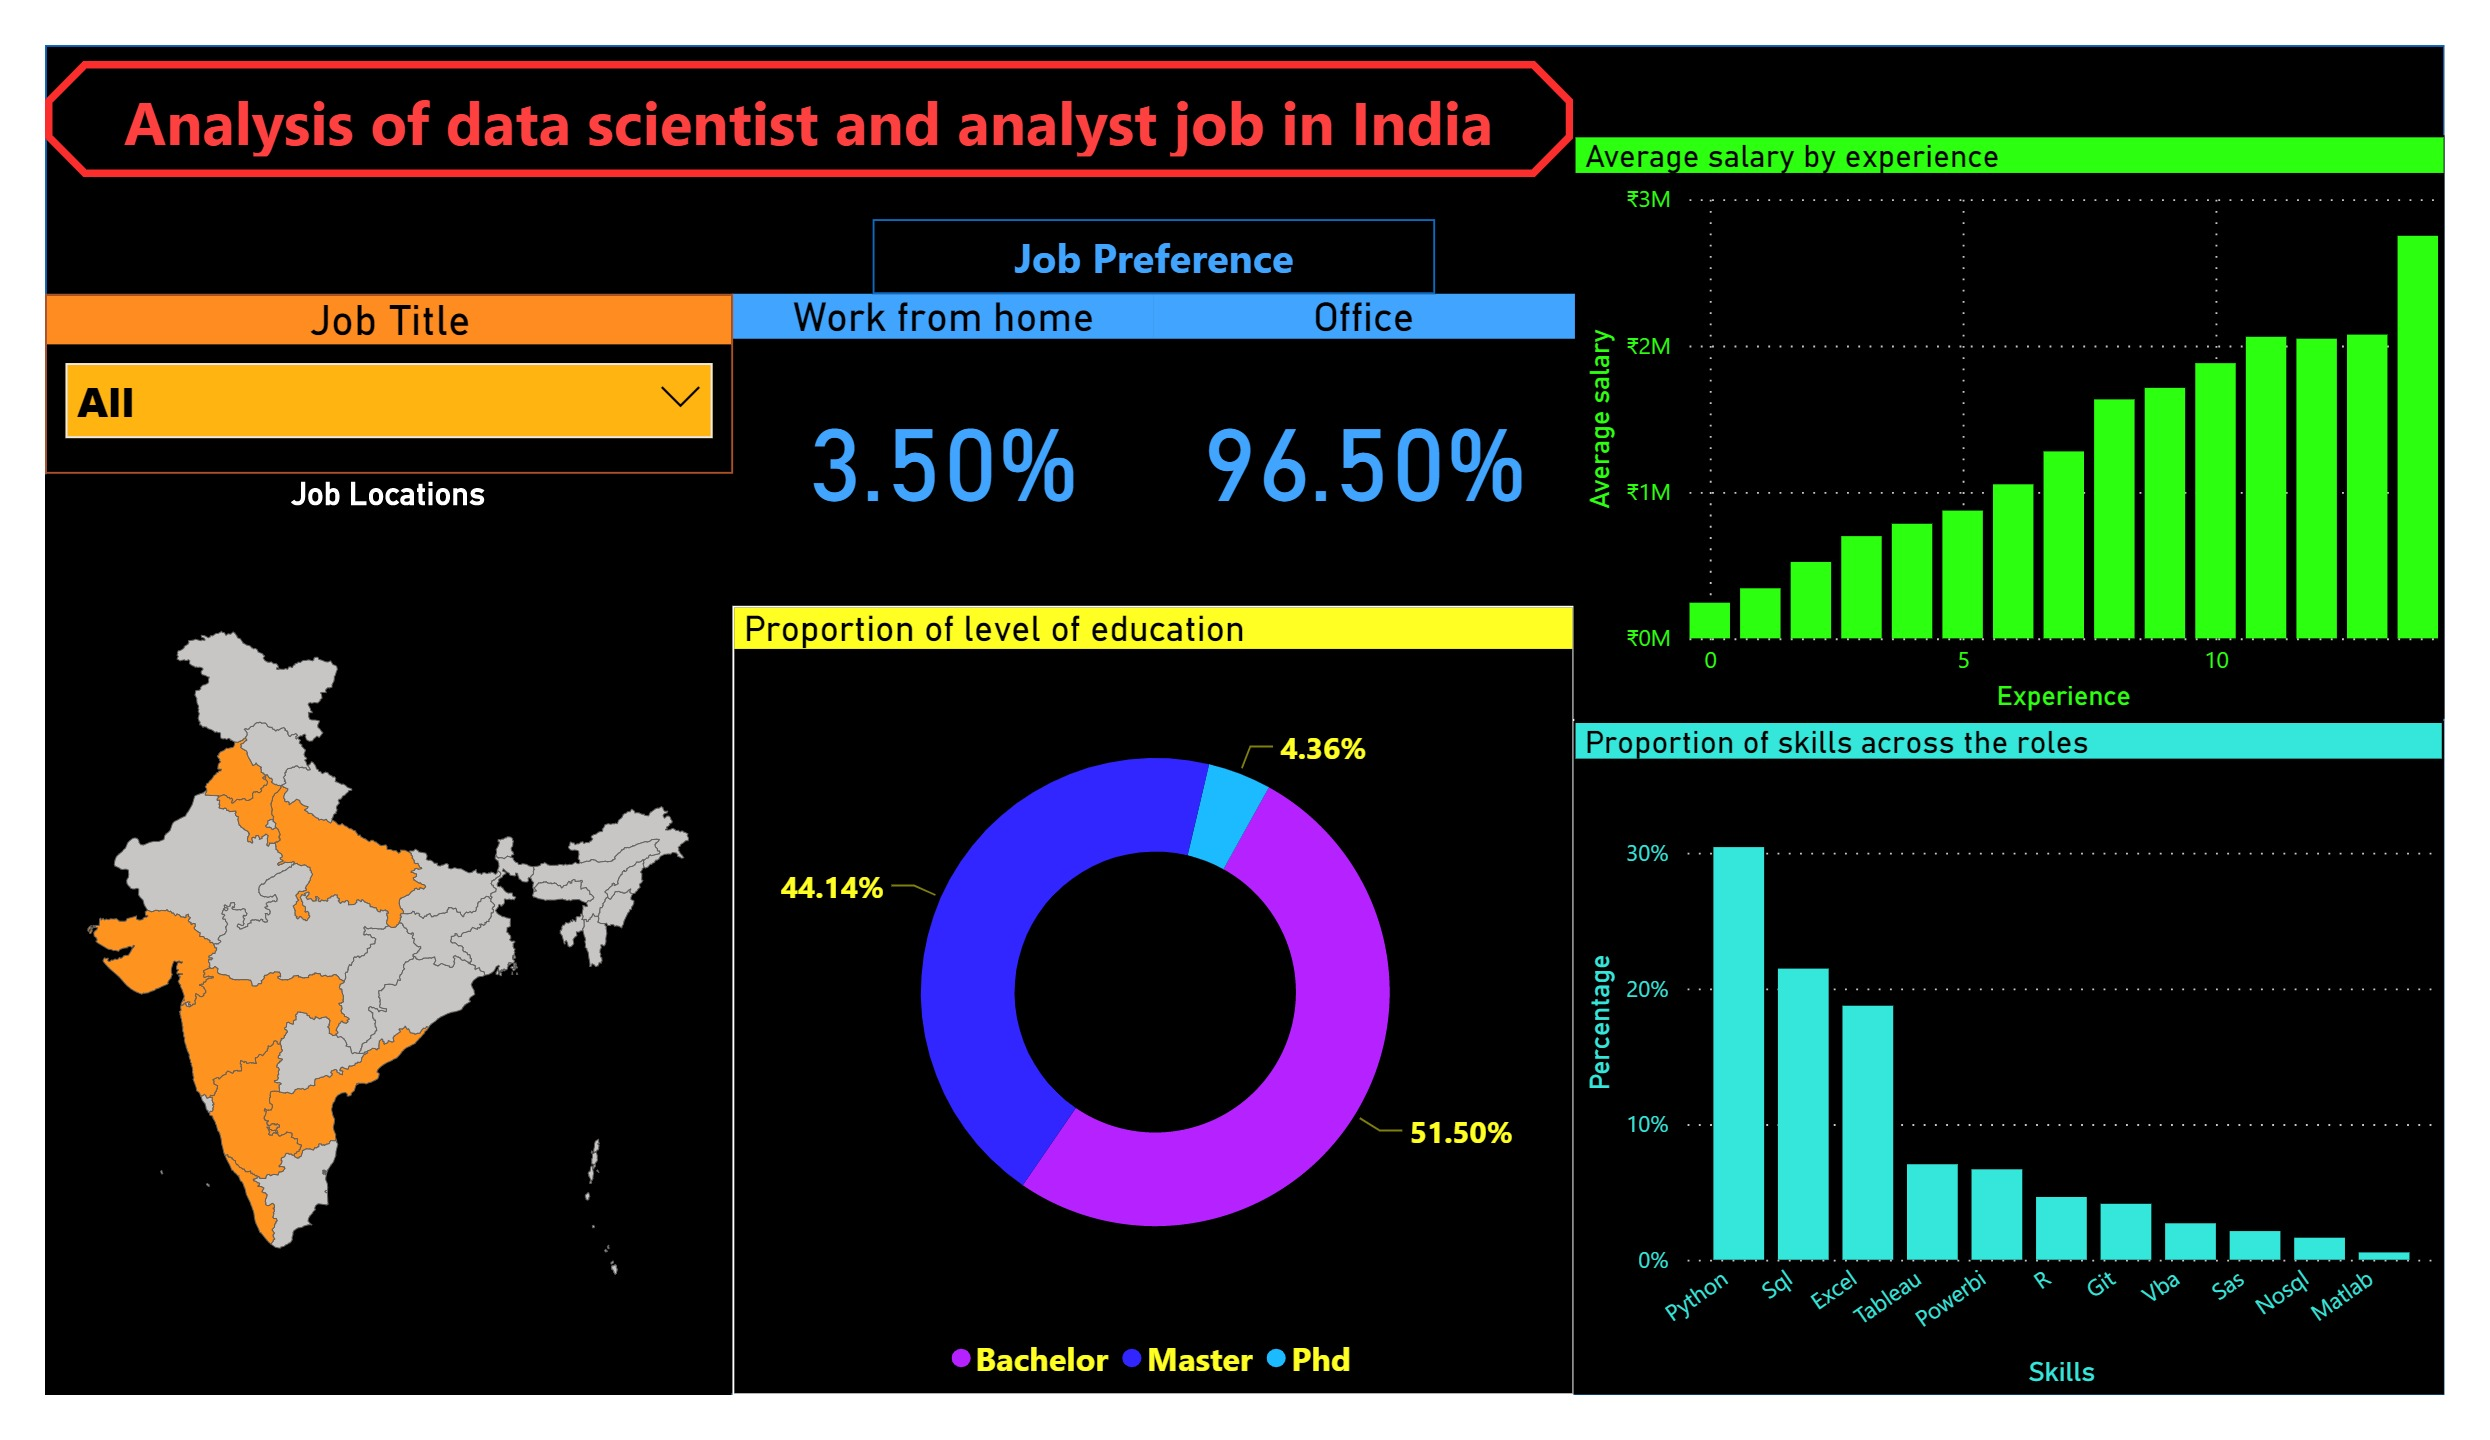

What the dashboard file says about the page in this screenshot:
{"tool":"powerbi","page":{"name":"Page 2","canvas":[1280,720],"ordinal":1},"visuals":[{"type":"shape","box":[0,0,1279.6,720],"z":0},{"type":"shapeMap","title":"Job Locations","fields":{"Category":["location.location"]},"box":[0,228.8,366.2,491.2],"z":1000},{"type":"donutChart","title":"Proportion of level of education","fields":{"Category":["education.education"],"Y":["Measure Table.% of education"]},"box":[366.2,298.8,448.8,421.2],"z":2000},{"type":"columnChart","title":"Proportion of skills across the roles","fields":{"Y":["Measure Table.% of skills"],"Category":["skill.skills"]},"box":[815.3,360.6,464.3,359.4],"z":3000},{"type":"columnChart","title":"Average salary by experience","fields":{"Y":["Measure Table.avg salary"],"Category":["salary.experience"]},"box":[815,48.8,465,311.2],"z":4000},{"type":"card","title":"Work from home","fields":{"Values":["Measure Table.% of WFH"]},"box":[366.2,132.5,225,145],"z":5000},{"type":"card","title":"Office","fields":{"Values":["Measure Table.% of WFO"]},"box":[591.2,132.5,225,145],"z":6000},{"type":"slicer","title":"Job Title","fields":{"Values":["raw.category"]},"box":[0,132.7,366.6,96.5],"z":7000},{"type":"shape","box":[441.2,92.5,300,40],"z":8000},{"type":"shape","box":[0,8.4,815.3,61.5],"z":9000}]}

Visuals, with their boxes in screenshot pixels (x1, y1, x2, y2), scaled from the page's 1280x720 canvas onto the 2490x1440 screenshot:
shape: <box>0,0,2489,1439</box>
"Job Locations" shapeMap: <box>0,458,712,1439</box>
"Proportion of level of education" donutChart: <box>712,598,1585,1439</box>
"Proportion of skills across the roles" columnChart: <box>1586,721,2489,1439</box>
"Average salary by experience" columnChart: <box>1585,98,2489,720</box>
"Work from home" card: <box>712,265,1150,555</box>
"Office" card: <box>1150,265,1588,555</box>
"Job Title" slicer: <box>0,265,713,458</box>
shape: <box>858,185,1442,265</box>
shape: <box>0,17,1586,140</box>
